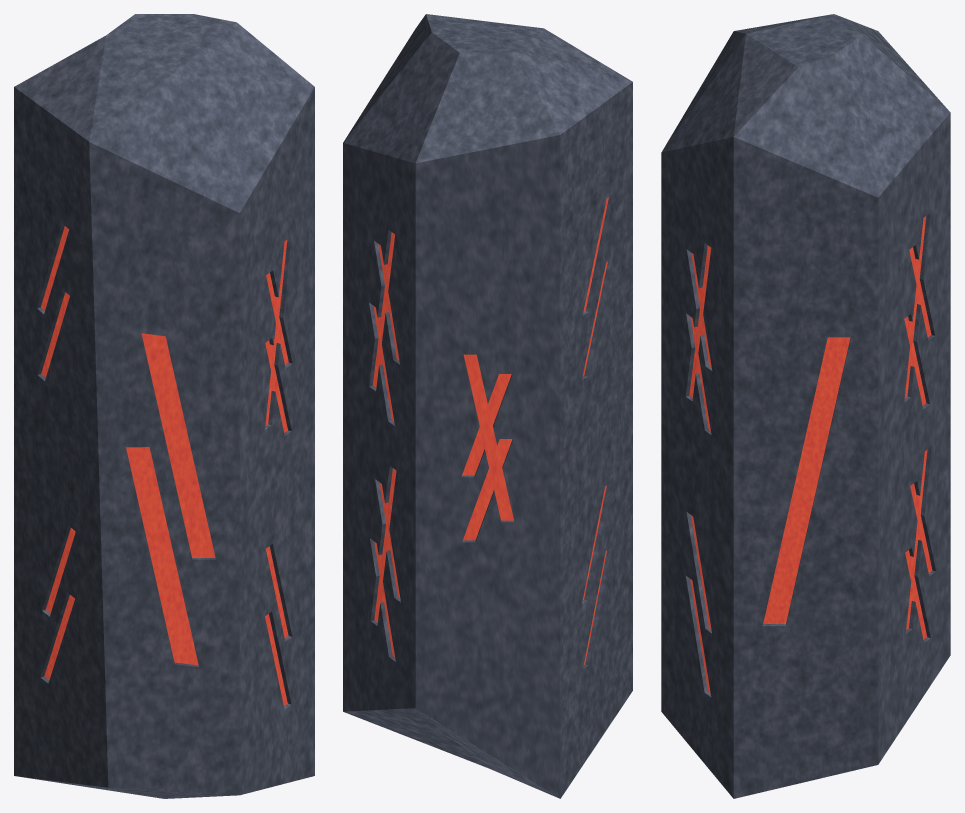
File: dadico.glb
The picture shows the model from 3 angles, left to right: view 1: azimuth 30°, elevation 25°; view 2: azimuth 150°, elevation 25°; view 3: azimuth 270°, elevation 25°; orthographic projection. The views are drawn at different scales.
Visible parts, largest first — view 1: Cylinder.001; view 2: Cylinder.001; view 3: Cylinder.001.
Part boxes in pixels (box(x1,y1,x2,y2)): Cylinder.001: box(14, 14, 314, 798); Cylinder.001: box(343, 14, 632, 798); Cylinder.001: box(661, 14, 950, 798).
Size of the model in its own units: 0.2451 by 0.7925 by 0.283.
Materials: 3 (3 with a texture image).
